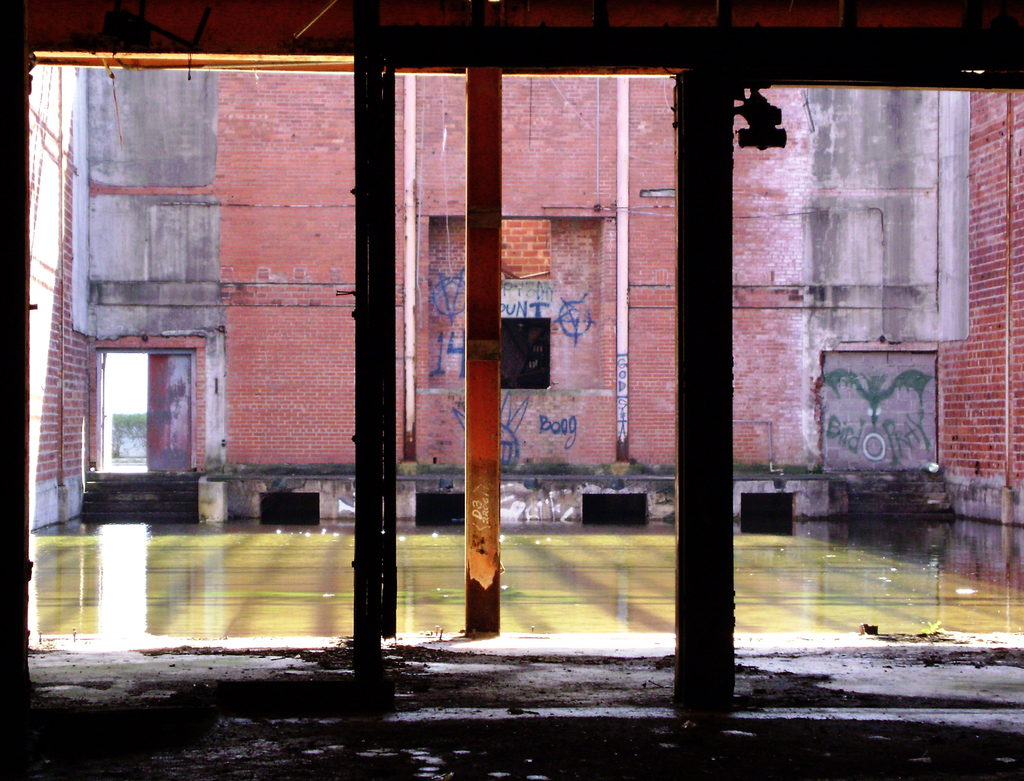Window: (501, 318, 551, 389)
